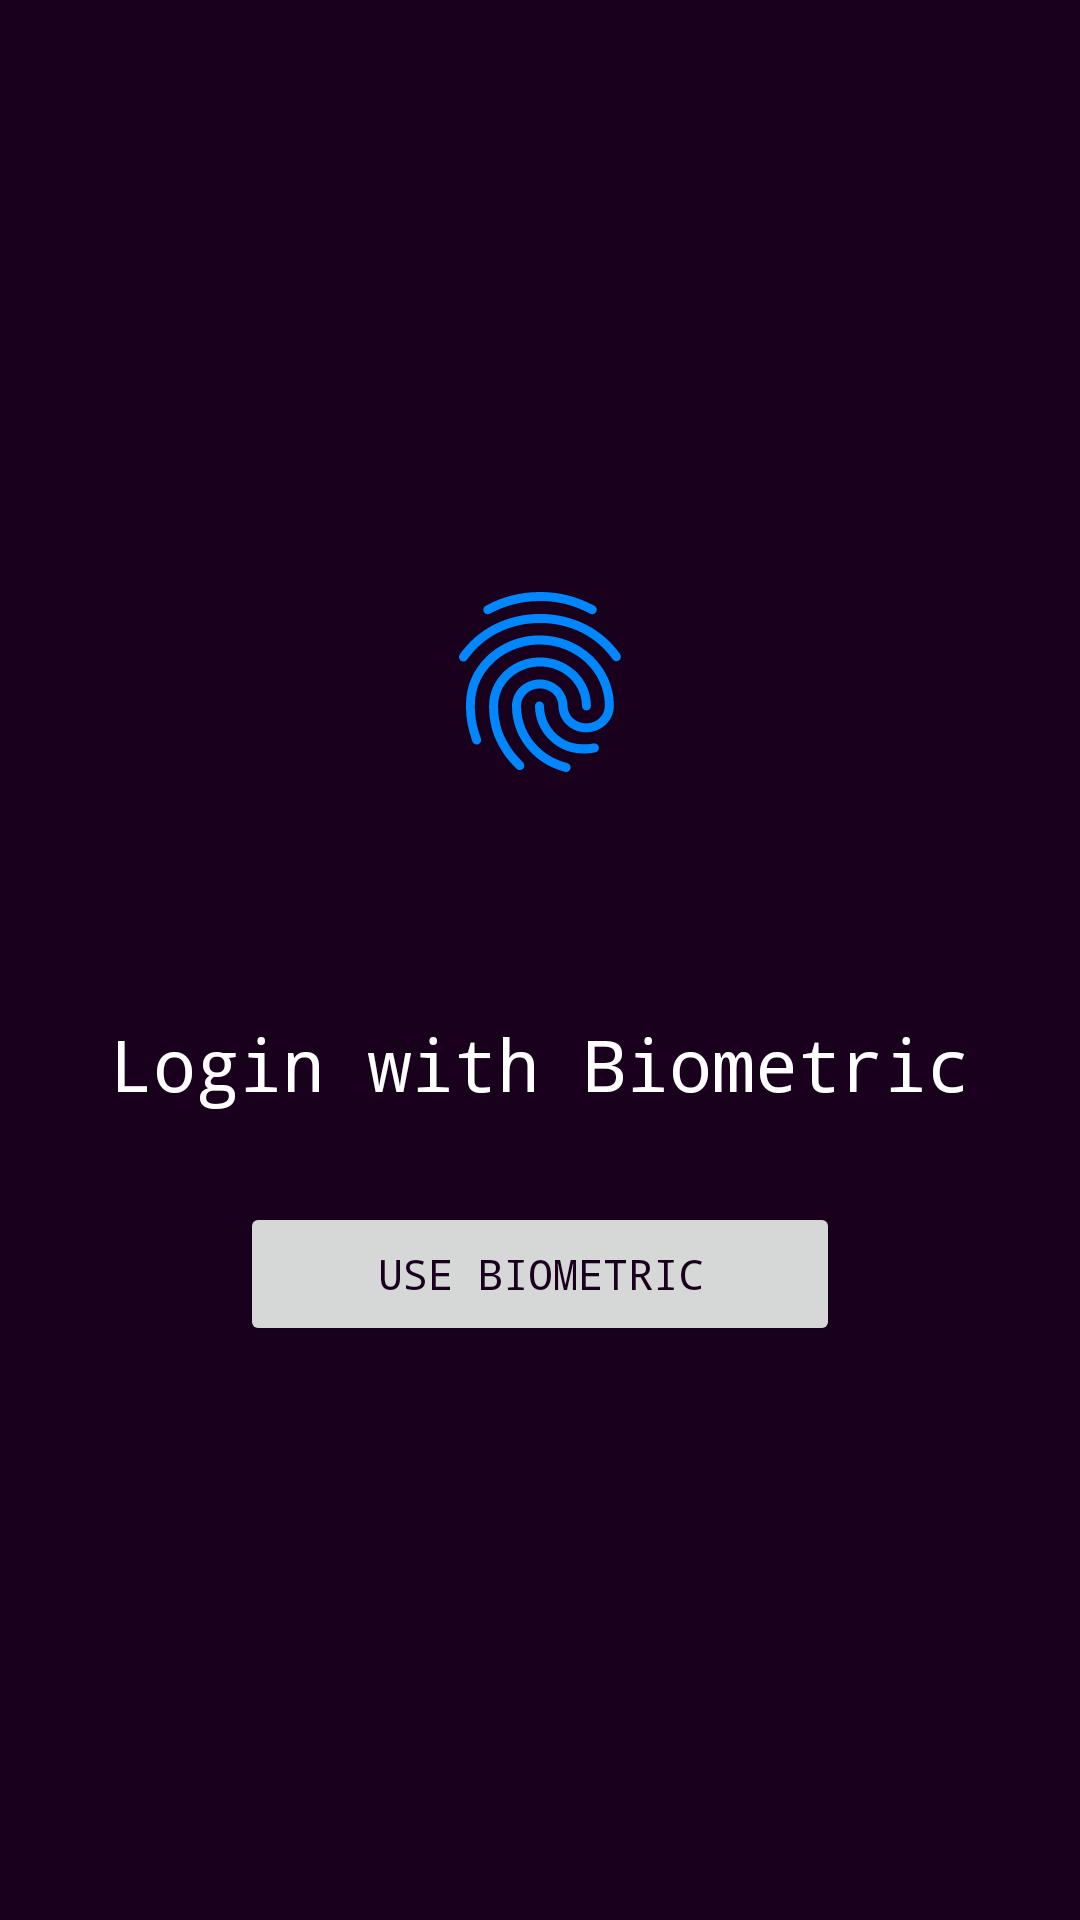

Point at icon controls on the screen. Image size 1080px×1920px, points as [x,y].
fingerprint: [540,682]
